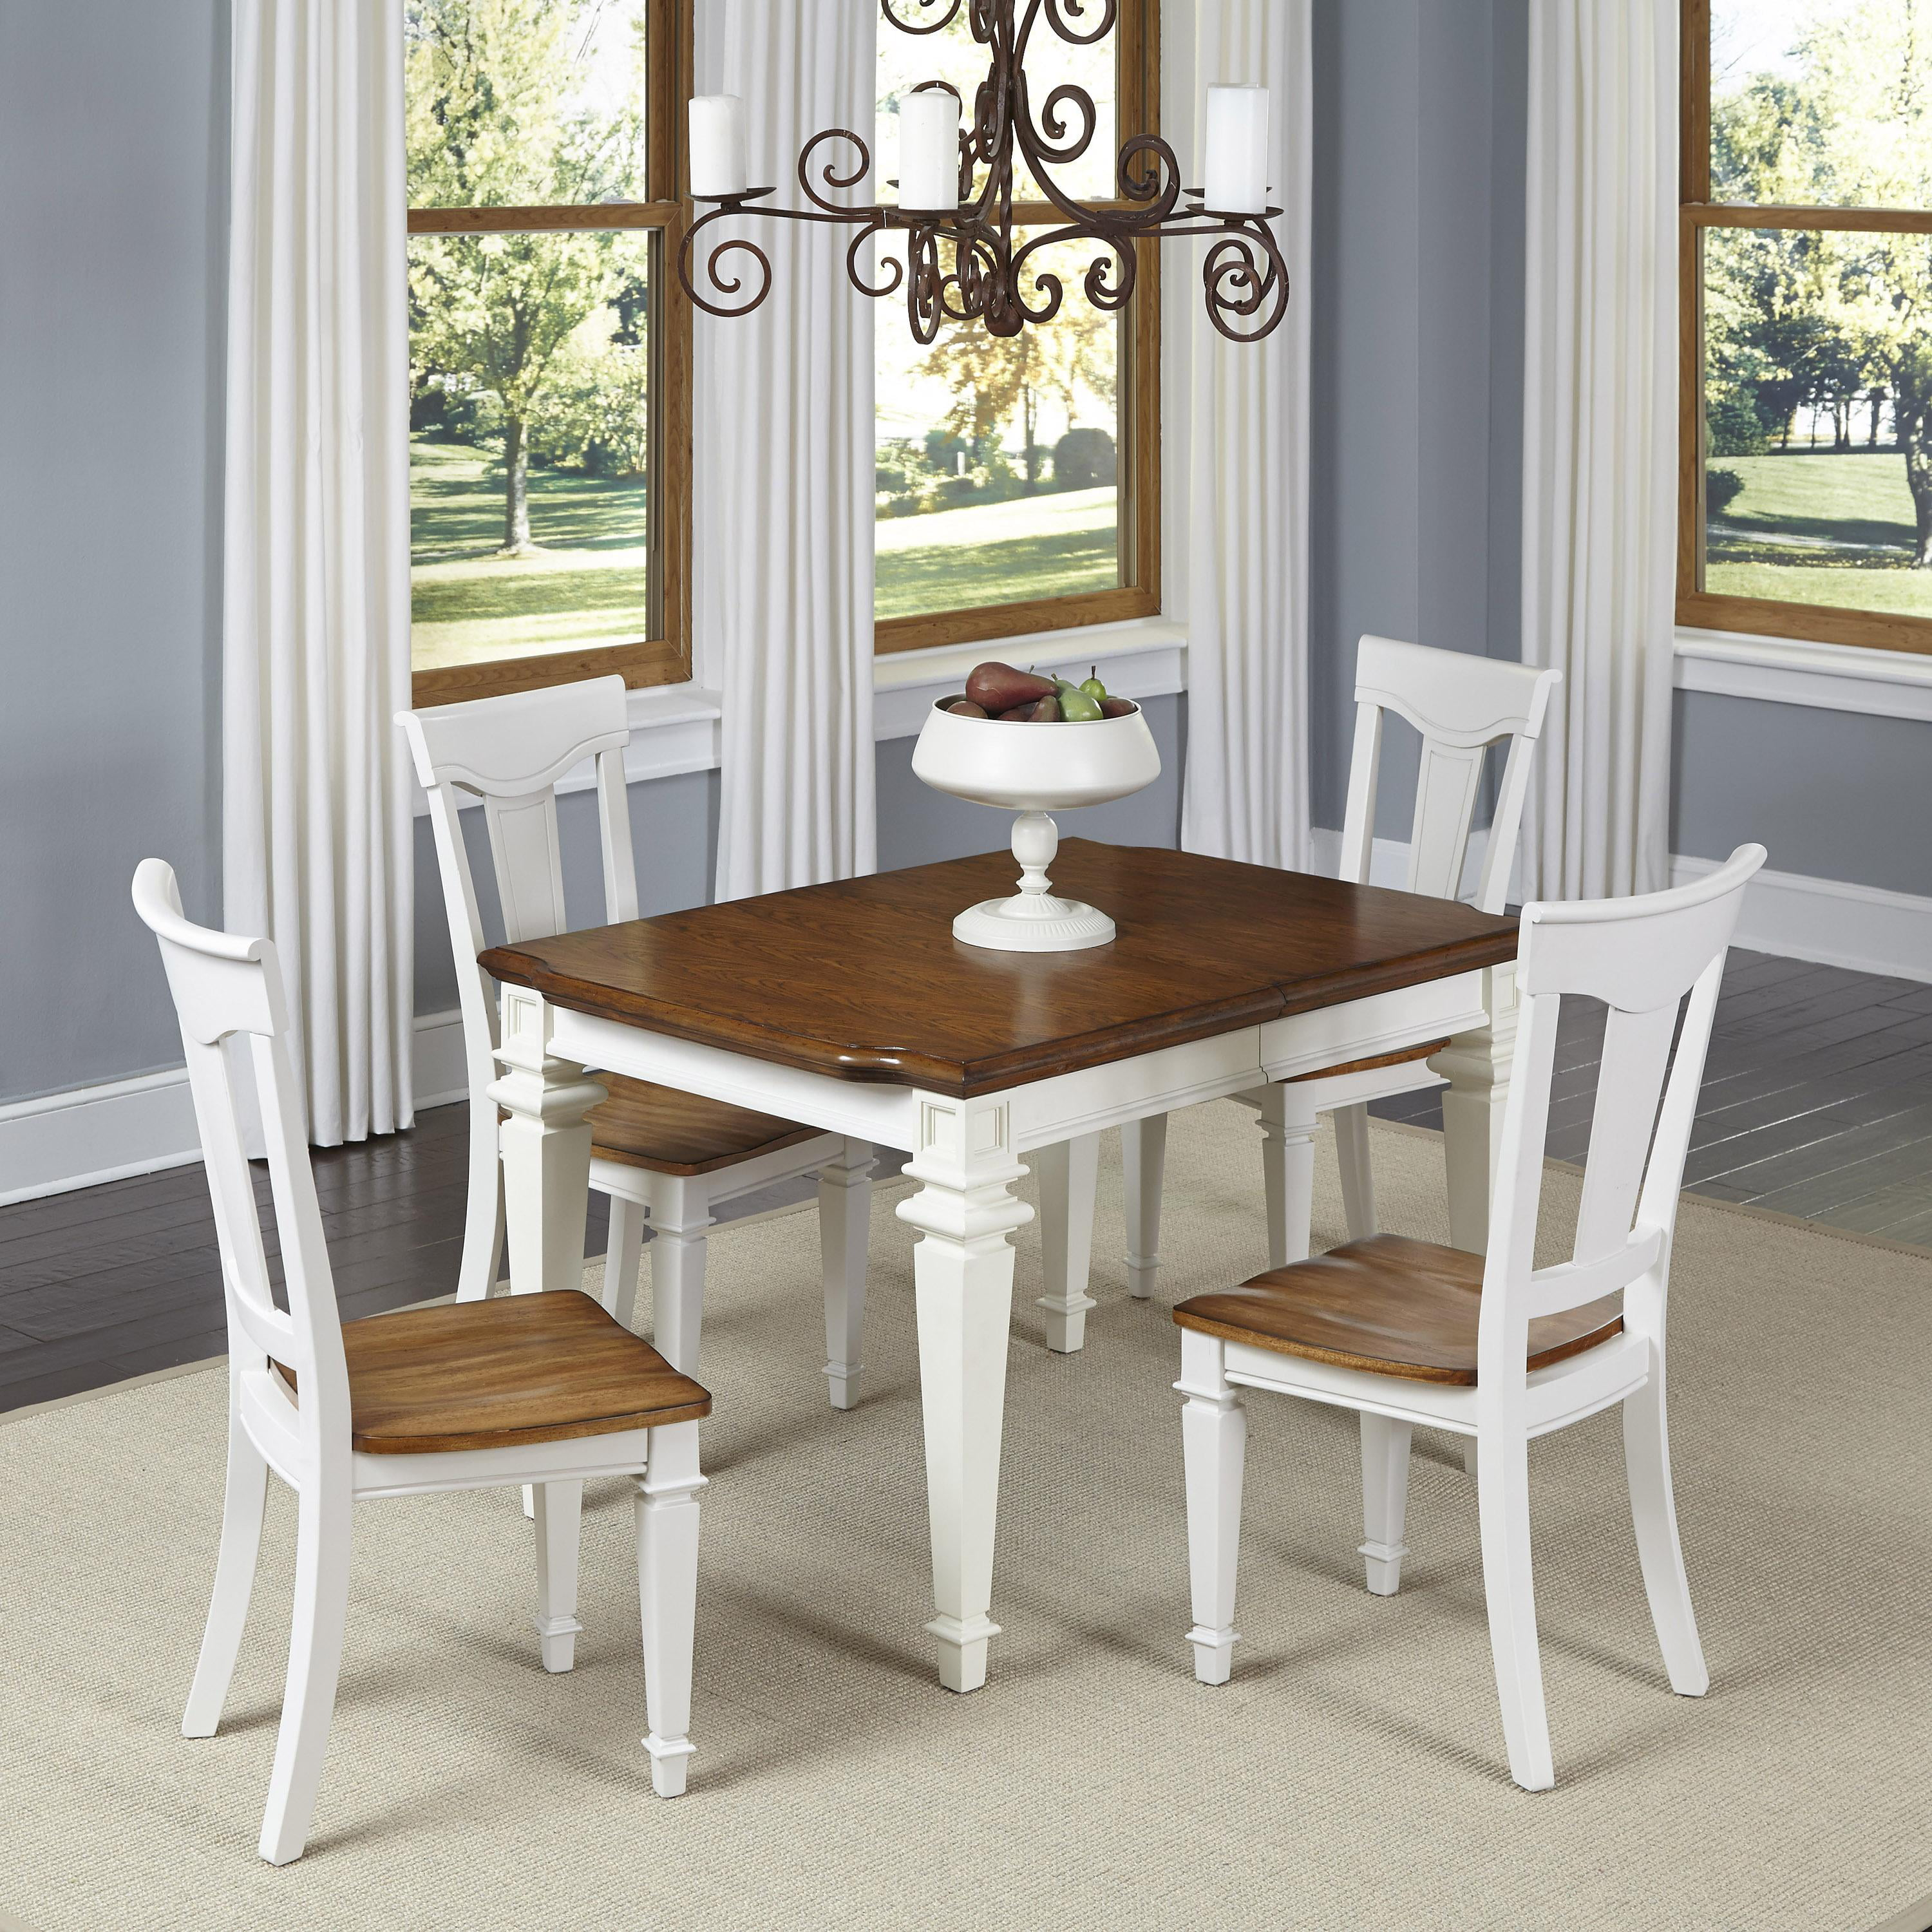diningtable: (129, 632, 1773, 1817)
